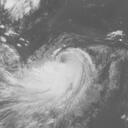cyclone: (18, 47, 98, 104)
